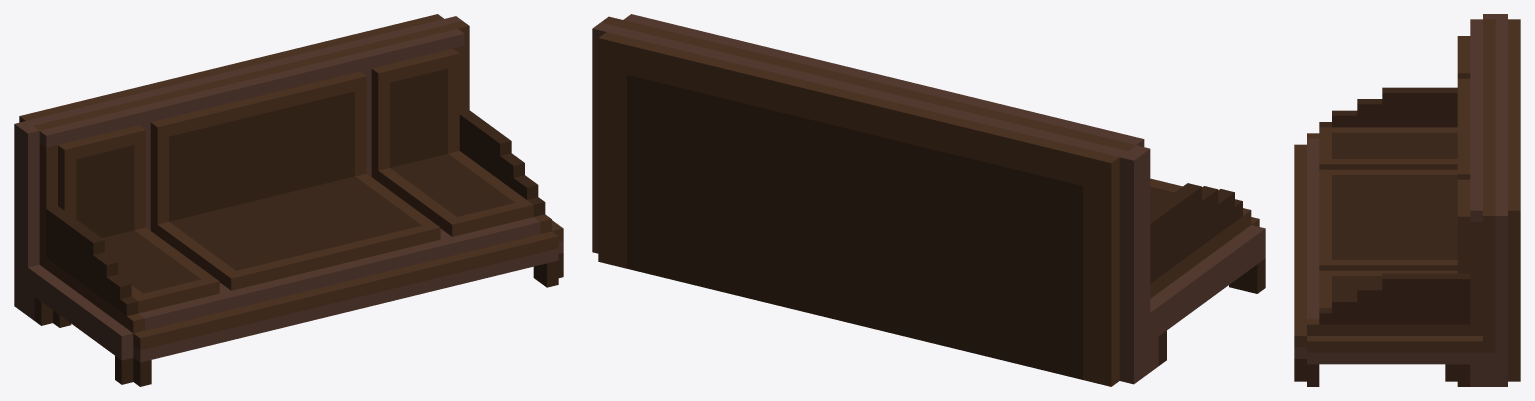
File: Sofa.obj
The picture shows the model from 3 angles, left to right: view 1: azimuth 30°, elevation 25°; view 2: azimuth 150°, elevation 25°; view 3: azimuth 270°, elevation 25°; orthographic projection. The views are drawn at different scales.
Size of the model in its own units: 3.8 by 1.5 by 1.8.
1 material, 1 textured.
